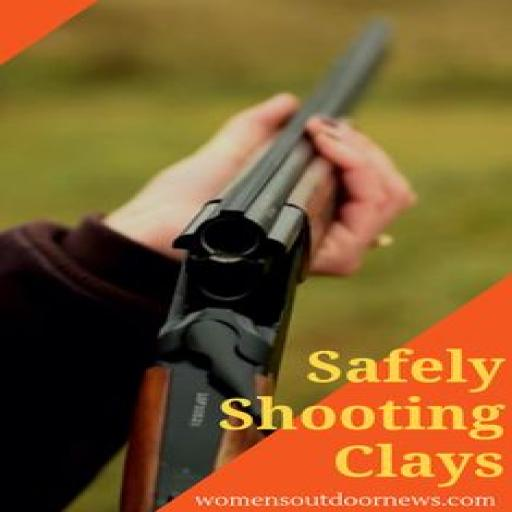shooting: (0, 89, 420, 510)
